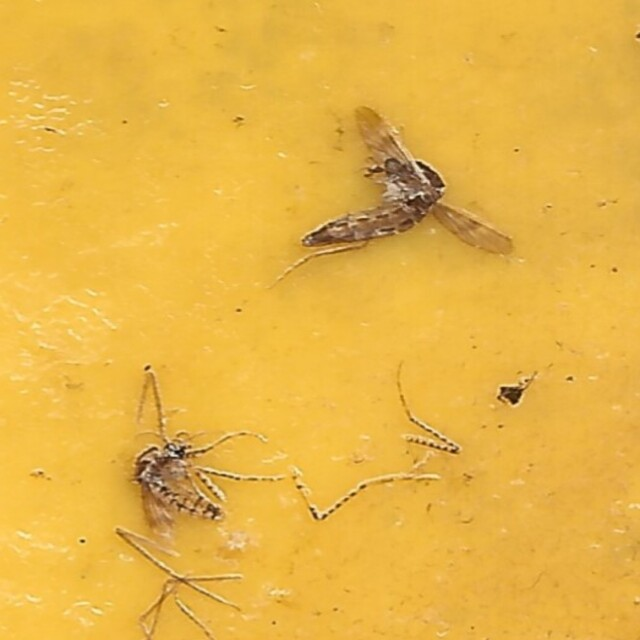Nematocera: (292, 103, 518, 269), (122, 429, 239, 537)
